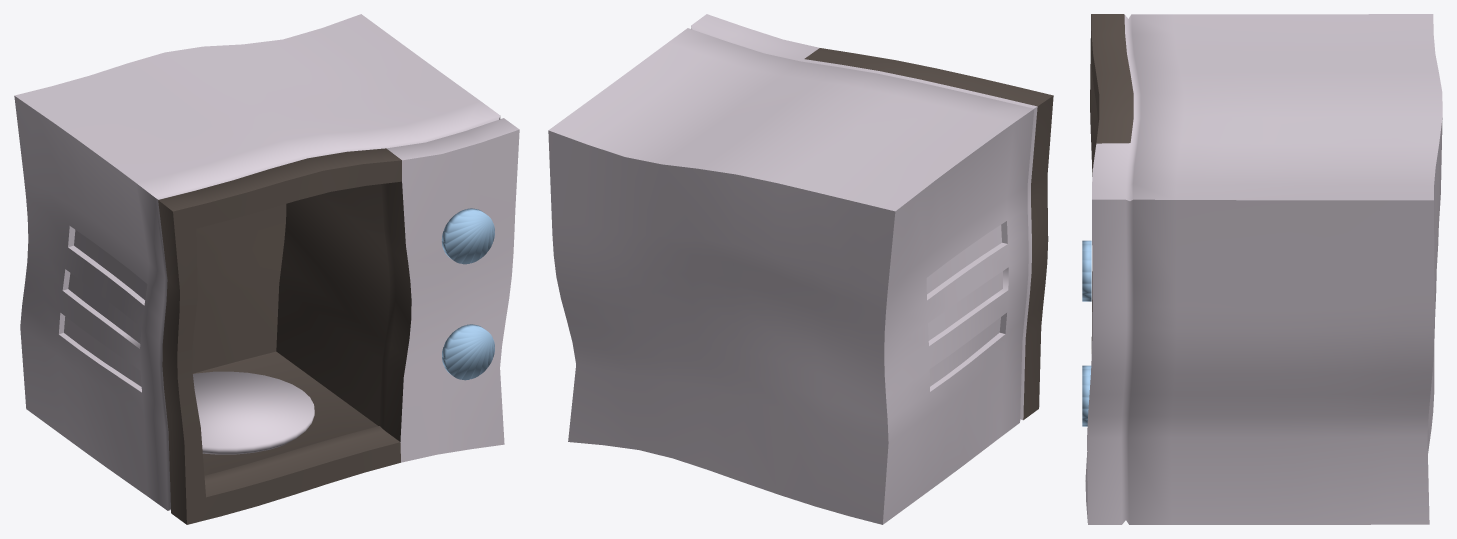
The model's file is Props_MicroOnde.fbx.
3 renders of one model, left to right at view 1: azimuth 30°, elevation 25°; view 2: azimuth 150°, elevation 25°; view 3: azimuth 270°, elevation 25°, orthographic. The views are drawn at different scales.
Visible parts, largest first — view 1: Cube; view 2: Cube; view 3: Cube.
Part boxes in pixels (x1,y1,x2,y2): Cube: (14, 14, 519, 524); Cube: (548, 14, 1053, 524); Cube: (1082, 14, 1442, 524).
Size of the model in its own units: 0.6713 by 0.5588 by 0.5899.
